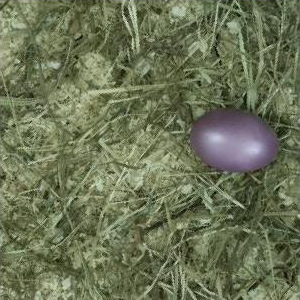egg: (190, 108, 280, 173)
